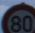Speed Limit -80-: (0, 0, 34, 32)
